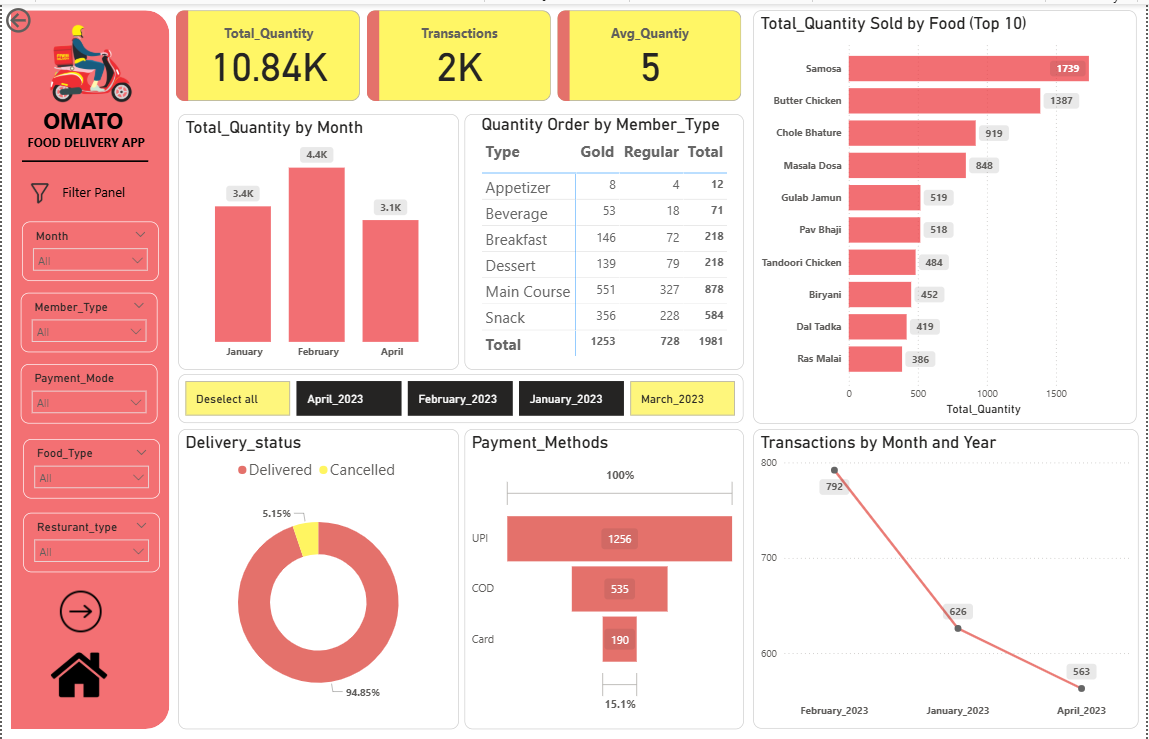

What the dashboard file says about the page in this screenshot:
{"tool":"powerbi","page":{"name":"ZOMATO_Dashboard","canvas":[1400,900],"ordinal":0},"visuals":[{"type":"shape","box":[11,7,194,879],"z":0},{"type":"textbox","box":[9,118.6,187.6,70.5],"z":1000},{"type":"image","box":[45,7.5,129.1,130.6],"z":2000},{"type":"image","box":[28.8,172.9,34.3,118],"z":3000},{"type":"textbox","box":[50.8,214.1,123.5,31.6],"z":4000},{"type":"shape","box":[24.9,174.6,154.3,35.9],"z":5000},{"type":"cardVisual","fields":{"Data":["Sales Data.Total_Quantity","Sales Data.Transactions","Sales Data.Avg_Quantiy"]},"box":[207.8,7.8,701.1,111.1],"z":6000},{"type":"clusteredBarChart","title":"Total_Quantity Sold by Food (Top 10)","fields":{"Category":["Food_Details.Food"],"Y":["Sales Data.Total_Quantity"]},"box":[919.1,7.3,469.1,505.5],"z":9000},{"type":"clusteredColumnChart","fields":{"Category":["Sales Data.orderDate.Variation.Date Hierarchy.Month"],"Y":["Sales Data.Total_Quantity"]},"box":[215.7,134.3,342.9,312.9],"z":10000},{"type":"pivotTable","title":"Quantity Order by Member_Type","fields":{"Columns":["Customer Details.member_Type"],"Rows":["Food_Details.Type"],"Values":["Sales Data.Transactions"]},"box":[565.7,134.3,341.4,312.9],"z":11000},{"type":"donutChart","title":"Delivery_status","fields":{"Category":["Sales Data.deliver_status"],"Y":["Sales Data.Transactions"]},"box":[215.7,520,342.9,367.1],"z":12000},{"type":"funnel","title":"Payment_Methods","fields":{"Category":["Sales Data.payment_method"],"Y":["Sales Data.Transactions"]},"box":[565.7,520,341.4,367.1],"z":13000},{"type":"actionButton","box":[0,0,100,40],"z":14000},{"type":"slicer","fields":{"Values":["Sales Data.orderDate.Variation.Date Hierarchy.Month"]},"box":[23.8,266.2,167.5,72.5],"z":15000},{"type":"slicer","fields":{"Values":["Customer Details.member_Type"]},"box":[22.9,352.9,167.1,72.9],"z":16000},{"type":"lineChart","fields":{"Y":["Sales Data.Transactions"],"Category":["Sales Data.Month and Year"]},"box":[918.9,520,471.1,366.7],"z":17000},{"type":"slicer","fields":{"Values":["Sales Data.payment_method"]},"box":[22.9,440,167.1,72.9],"z":20000},{"type":"slicer","fields":{"Values":["Food_Details.Type"]},"box":[25.7,531.4,167.1,72.9],"z":21000},{"type":"slicer","fields":{"Values":["Resturant_Details.Resturant_type"]},"box":[25.7,621.4,167.1,72.9],"z":22000},{"type":"image","box":[62.9,708.6,67.1,67.1],"z":23000},{"type":"image","box":[55.7,780,78.6,81.4],"z":24000},{"type":"advancedSlicerVisual","fields":{"Values":["Sales Data.Month and Year"]},"box":[215.7,452.9,691.4,60],"z":25000}]}

Visuals, with their boxes in screenshot pixels (x1, y1, x2, y2), scaled from the page's 1400x900 canvas onto the 1149x739 screenshot:
shape: BBox(9, 6, 168, 728)
textbox: BBox(7, 97, 161, 155)
image: BBox(37, 6, 143, 113)
image: BBox(24, 142, 52, 239)
textbox: BBox(42, 176, 143, 202)
shape: BBox(20, 143, 147, 173)
cardVisual - Sales Data.Total_Quantity x Sales Data.Transactions: BBox(171, 6, 746, 98)
"Total_Quantity Sold by Food (Top 10)" clusteredBarChart: BBox(754, 6, 1139, 421)
clusteredColumnChart - Sales Data.orderDate.Variation.Date Hierarchy.Month x Sales Data.Total_Quantity: BBox(177, 110, 458, 367)
"Quantity Order by Member_Type" pivotTable: BBox(464, 110, 744, 367)
"Delivery_status" donutChart: BBox(177, 427, 458, 728)
"Payment_Methods" funnel: BBox(464, 427, 744, 728)
actionButton: BBox(0, 0, 82, 33)
slicer - Sales Data.orderDate.Variation.Date Hierarchy.Month: BBox(20, 219, 157, 278)
slicer - Customer Details.member_Type: BBox(19, 290, 156, 350)
lineChart - Sales Data.Transactions x Sales Data.Month and Year: BBox(754, 427, 1141, 728)
slicer - Sales Data.payment_method: BBox(19, 361, 156, 421)
slicer - Food_Details.Type: BBox(21, 436, 158, 496)
slicer - Resturant_Details.Resturant_type: BBox(21, 510, 158, 570)
image: BBox(52, 582, 107, 637)
image: BBox(46, 640, 110, 707)
advancedSlicerVisual - Sales Data.Month and Year: BBox(177, 372, 744, 421)
